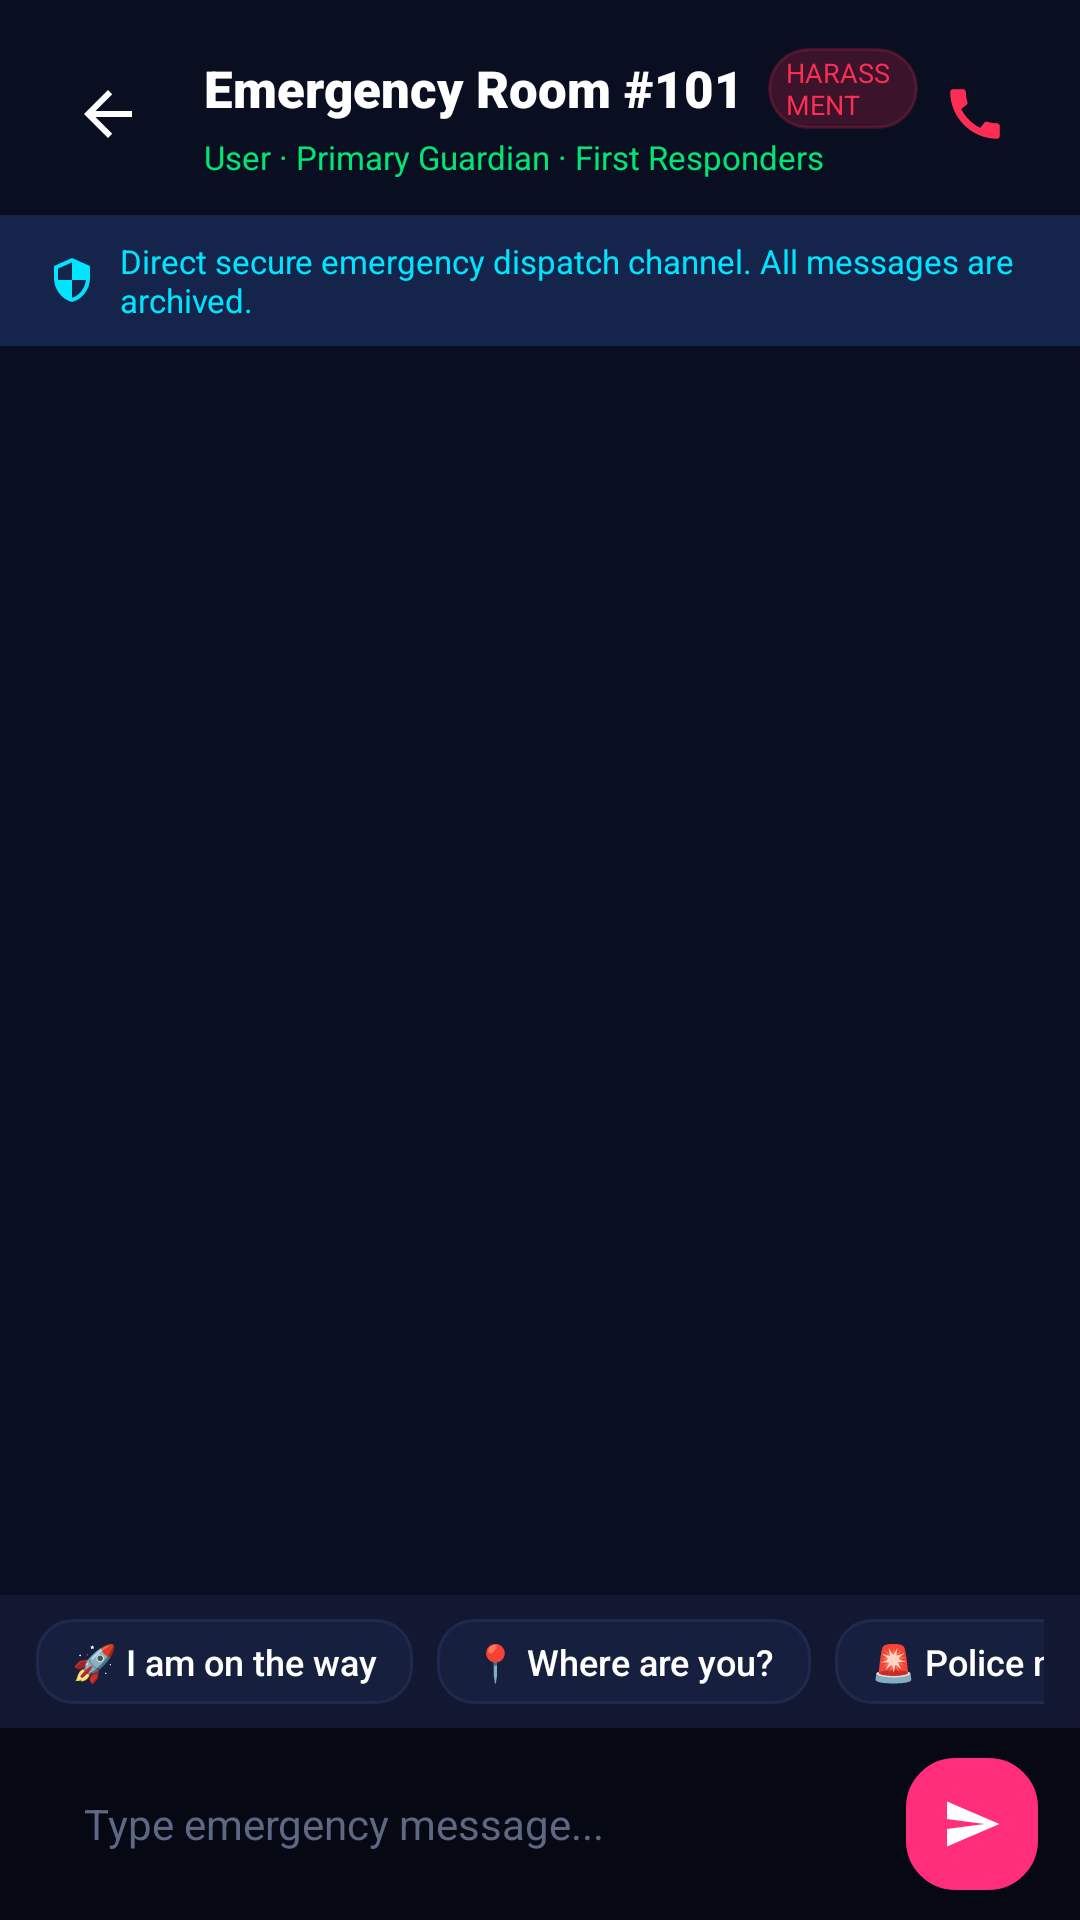

Where to tap for icons on this 1080x1920 app screen, as (x=x, y=y):
Back: (x=108, y=114)
safety shield: (x=72, y=280)
send neon: (x=973, y=1824)
